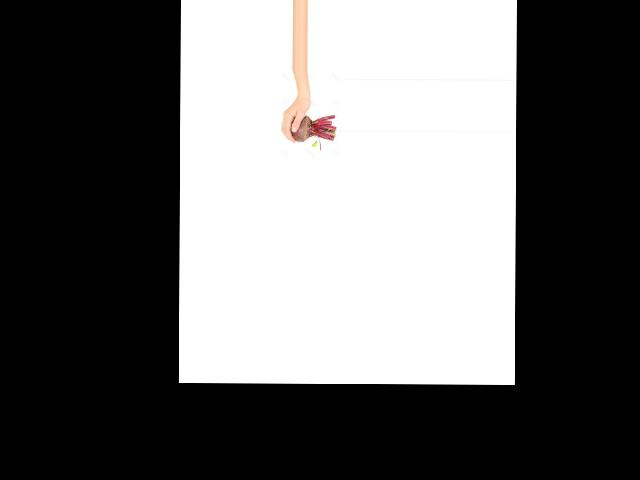beet: (290, 115, 336, 151)
